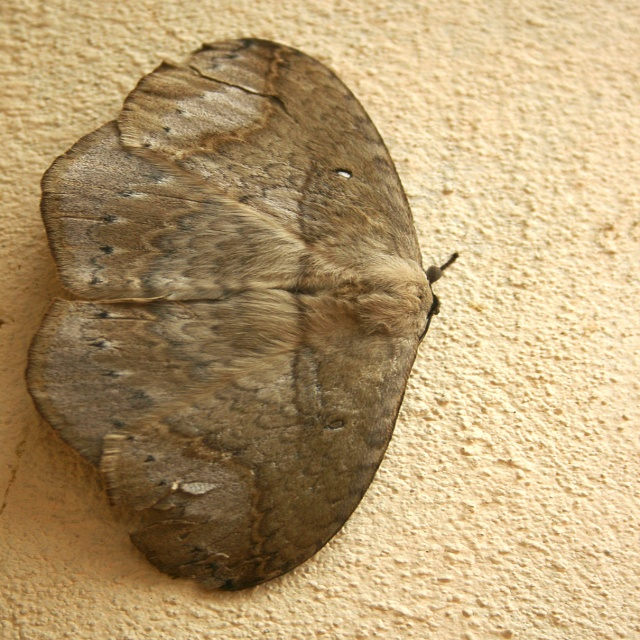Moths and butterflies: (29, 38, 461, 591)
